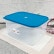plastic: (2, 11, 49, 43)
